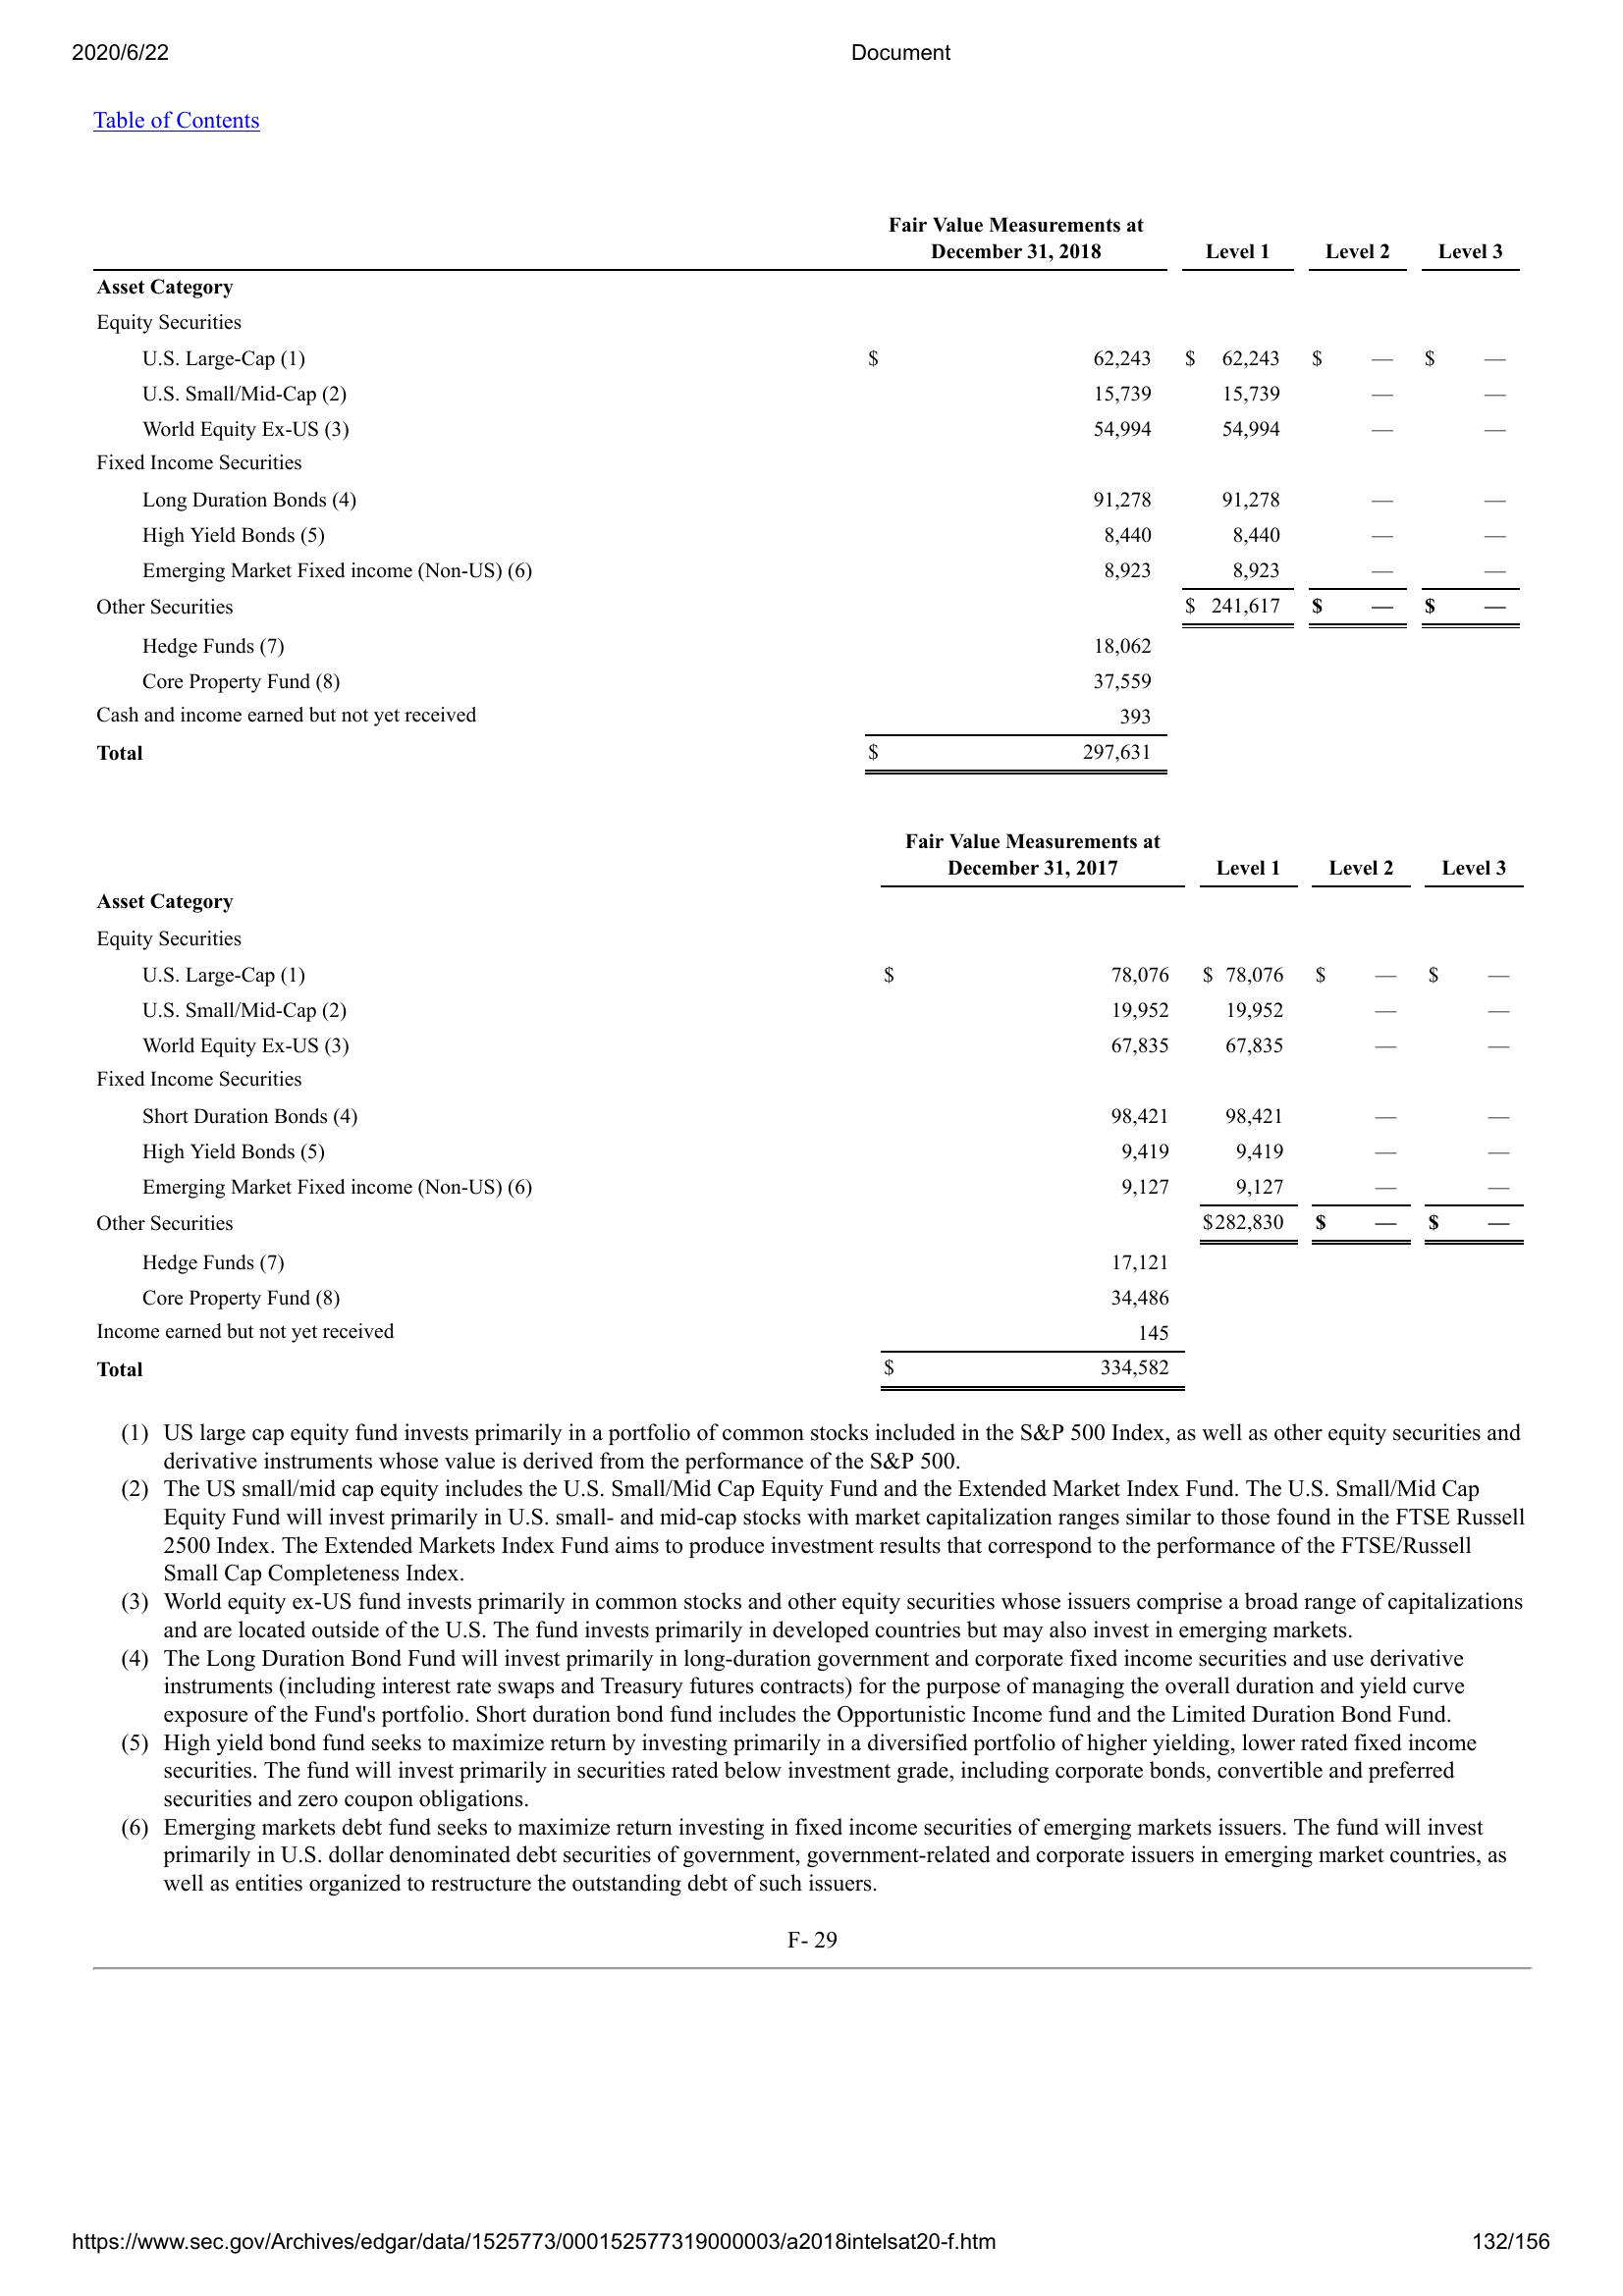table: (84, 825, 1521, 1399), (72, 211, 1530, 776)
